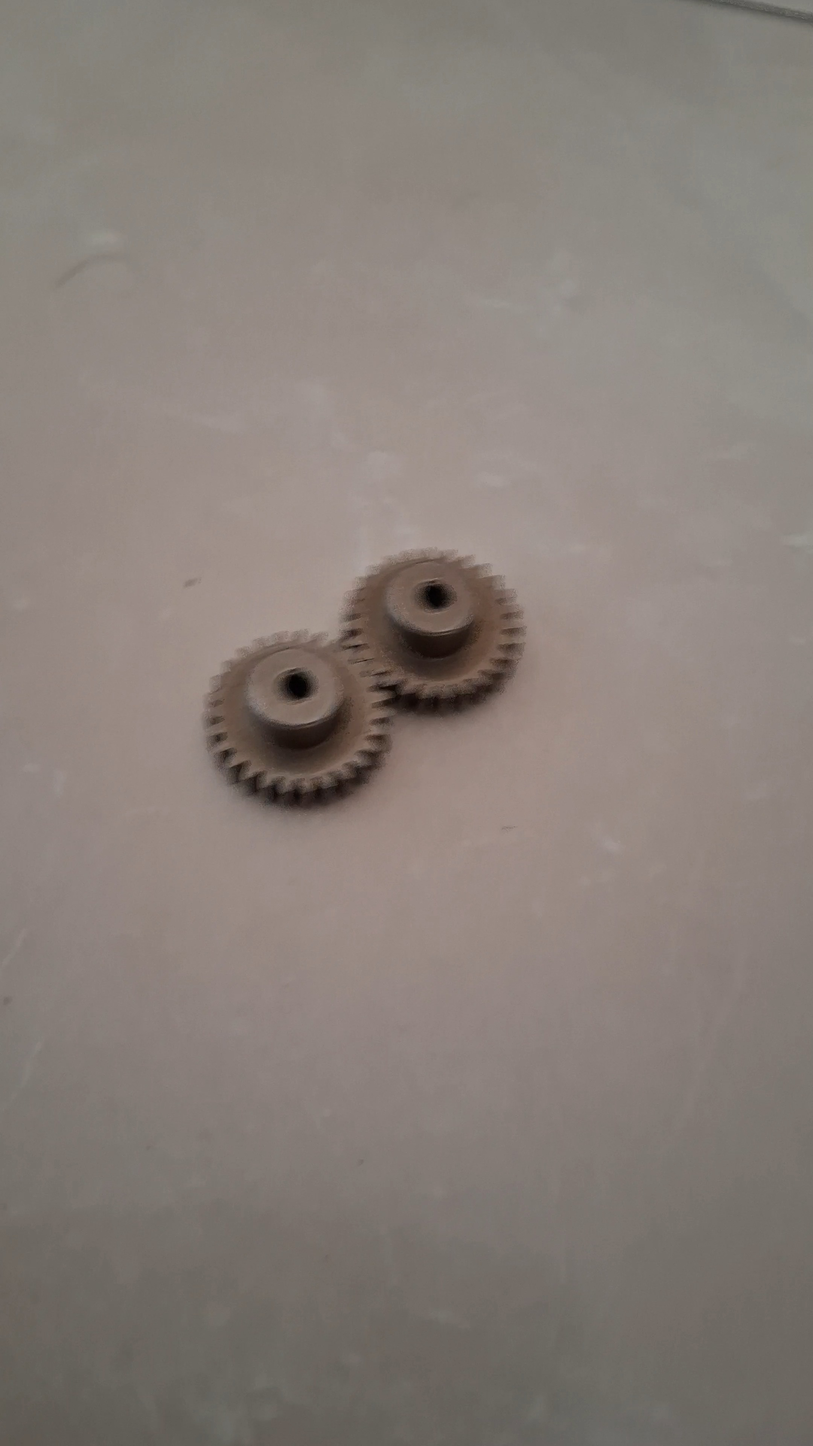spur gear: (204, 633, 392, 802), (343, 552, 524, 707)
